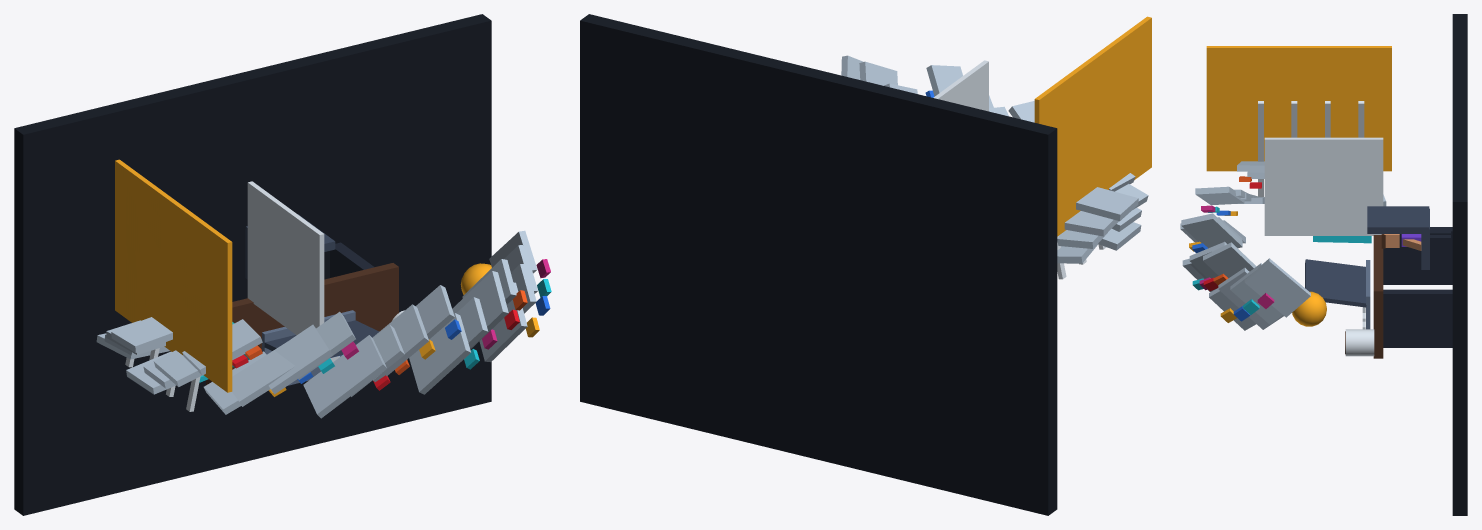
Rendered from 01-notification-avalanche.obj.
3 views of the same model, side by side, from view 1: azimuth 30°, elevation 25°; view 2: azimuth 150°, elevation 25°; view 3: azimuth 270°, elevation 25° (orthographic). The views are drawn at different scales.
Visible parts, largest first — view 1: floor, sun_window_emitter, rainbow_catcher, desk_top, notification_13_card, notification_17_card, notification_11_card, notification_10_card, notification_19_card, notification_15_card, notification_04_card, notification_16_card (+14 smaller); view 2: floor, sun_window_emitter, rainbow_catcher, notification_04_card, notification_03_card, notification_16_card, notification_19_card, notification_02_card; view 3: sun_window_emitter, rainbow_catcher, floor, desk_leg_3, desk_leg_-3, laptop_screen, notification_24_card, chair_back, desk_top, notification_16_card, notification_20_card, coffee_cup (+10 smaller).
Part boxes in pixels (x1,y1,x2,y2): floor: [14, 14, 491, 515]; sun_window_emitter: [115, 159, 232, 392]; rainbow_catcher: [247, 181, 324, 335]; desk_top: [206, 263, 398, 385]; notification_13_card: [303, 335, 386, 418]; notification_17_card: [409, 313, 471, 394]; notification_11_card: [268, 324, 332, 394]; notification_10_card: [232, 344, 295, 406]; notification_19_card: [452, 271, 508, 349]; notification_15_card: [372, 304, 428, 381]; notification_04_card: [111, 317, 172, 352]; notification_16_card: [415, 285, 454, 339]; floor: [580, 14, 1057, 515]; sun_window_emitter: [1034, 16, 1151, 236]; rainbow_catcher: [933, 60, 988, 111]; notification_04_card: [1076, 187, 1138, 221]; notification_03_card: [1064, 211, 1118, 236]; notification_16_card: [926, 65, 962, 96]; notification_19_card: [859, 61, 897, 85]; notification_02_card: [1057, 230, 1107, 248]; sun_window_emitter: [1206, 46, 1391, 171]; rainbow_catcher: [1264, 137, 1383, 235]; floor: [1452, 14, 1467, 515]; desk_leg_3: [1383, 289, 1452, 347]; desk_leg_-3: [1383, 227, 1452, 284]; laptop_screen: [1305, 259, 1366, 307]; notification_24_card: [1244, 258, 1310, 317]; chair_back: [1367, 206, 1429, 233]; desk_top: [1373, 235, 1383, 358]; notification_16_card: [1181, 213, 1242, 248]; notification_20_card: [1203, 242, 1256, 278]; coffee_cup: [1345, 329, 1374, 356].
Size of the model in its own units: 18 by 14 by 11.61.
